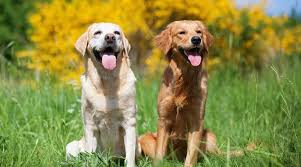Golden Retriever: (63, 20, 147, 167), (144, 13, 224, 166)
